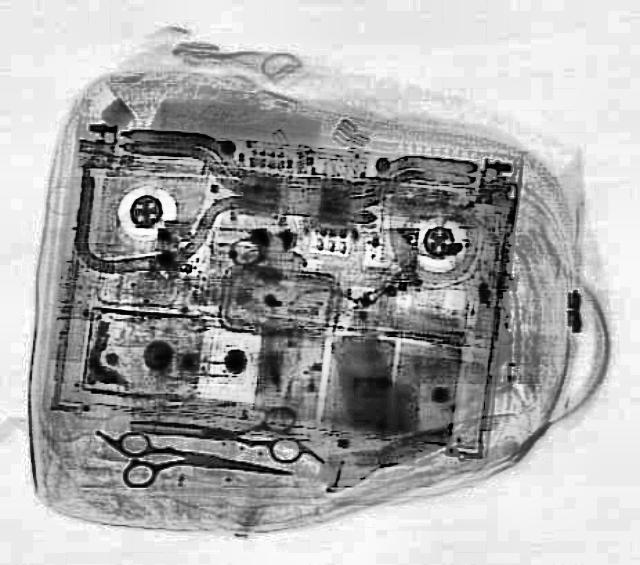Scissors: (124, 392, 306, 462), (112, 430, 294, 500)
